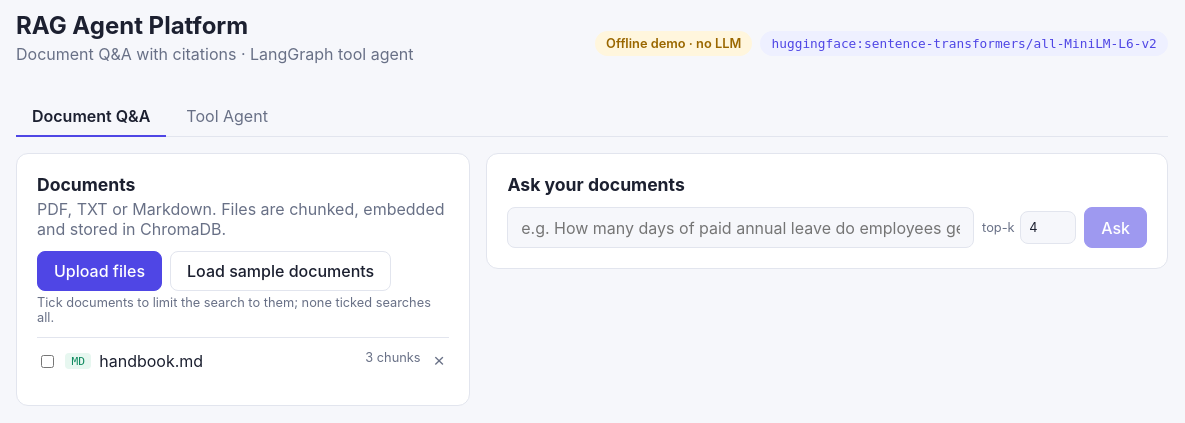
Test case: App › asks a question and shows cited sources
This screenshot has width=1185, height=423.
Expected: the text "handbook.md" is shown, [99,351,203,371]
Type "How much leave?" into the field named "Question" at x=741, y=228, box [507,207,974,248]
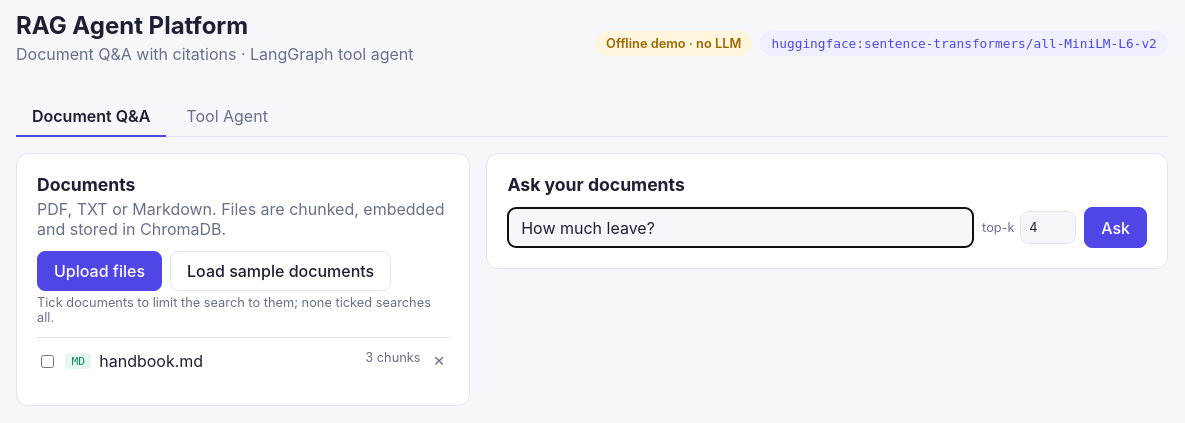
Click the button "Ask" at x=1116, y=228, box [1084,207,1147,248]
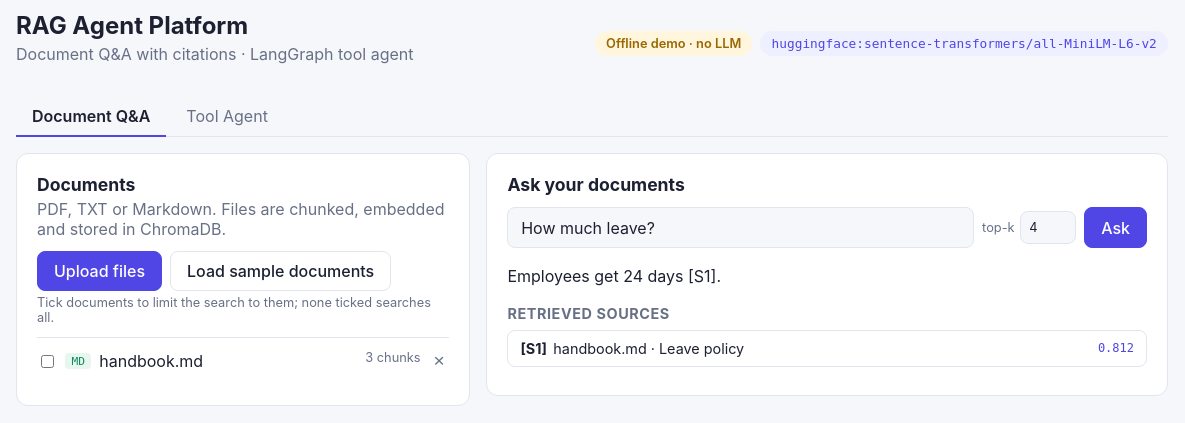
Expected: the text "Employees get 24 days [S1]." is shown, [507,266,721,286]
Expected: the text "0.812" is shown, [1098,342,1134,356]
